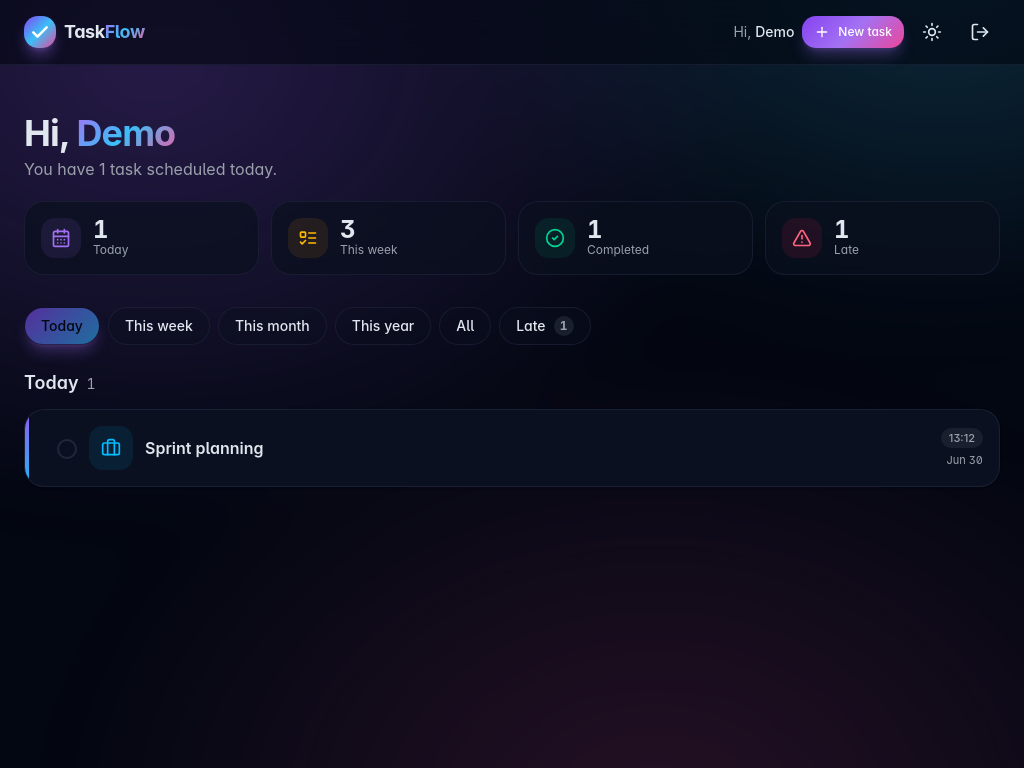
Scenario: HomePage › toggles a task and updates the badge
Expected: the heading "Sprint planning" is shown, x1=145 y1=438 x2=264 y2=458
What coordinates should you click on to do the following:
click the checkbox
I would click on:
 (67, 449)
Its box is x1=57 y1=439 x2=77 y2=459.
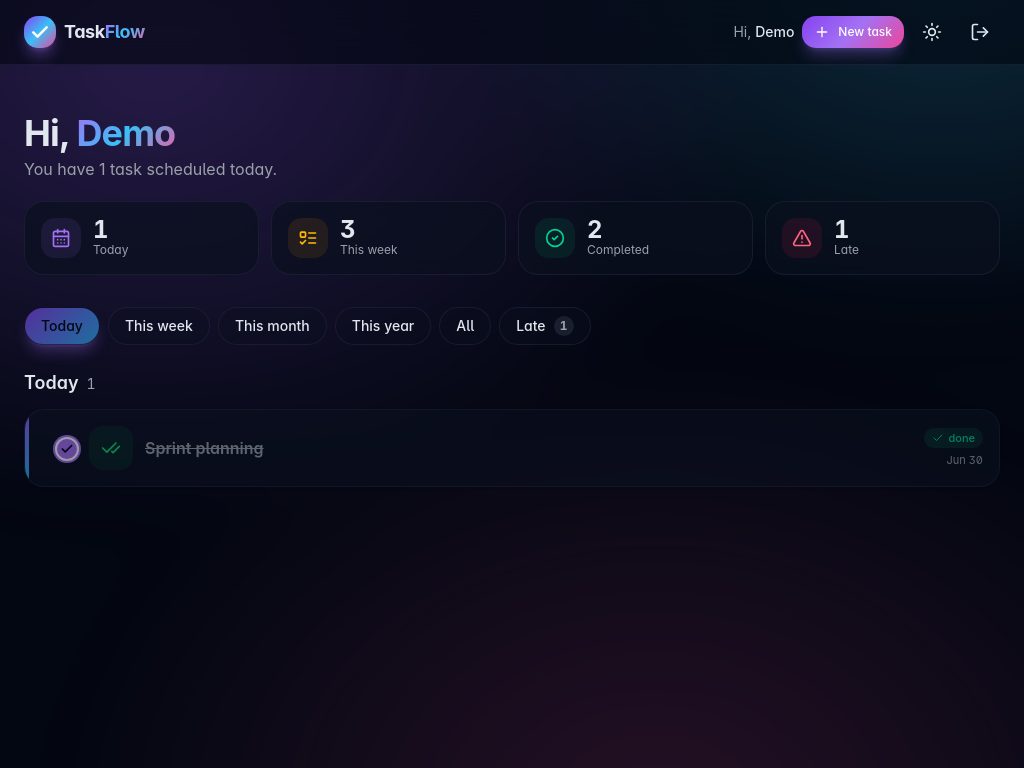
Expected: the text "done" is shown, x1=924 y1=428 x2=983 y2=448
